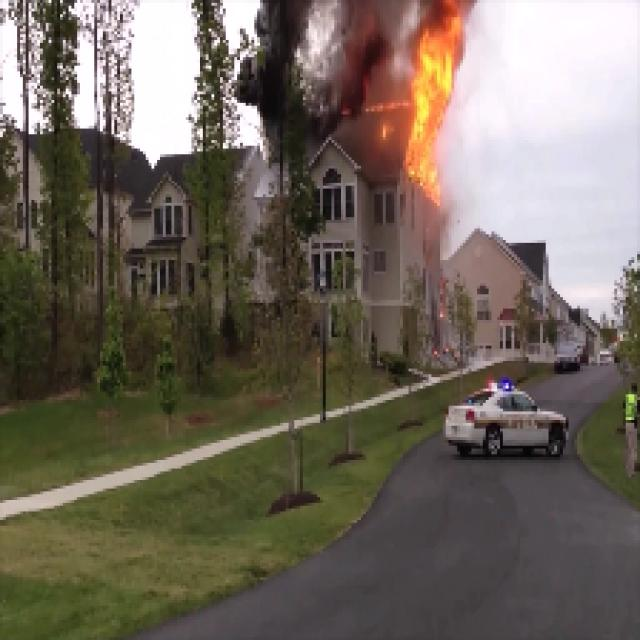fire: (400, 17, 463, 184)
smoke: (261, 8, 391, 122)
